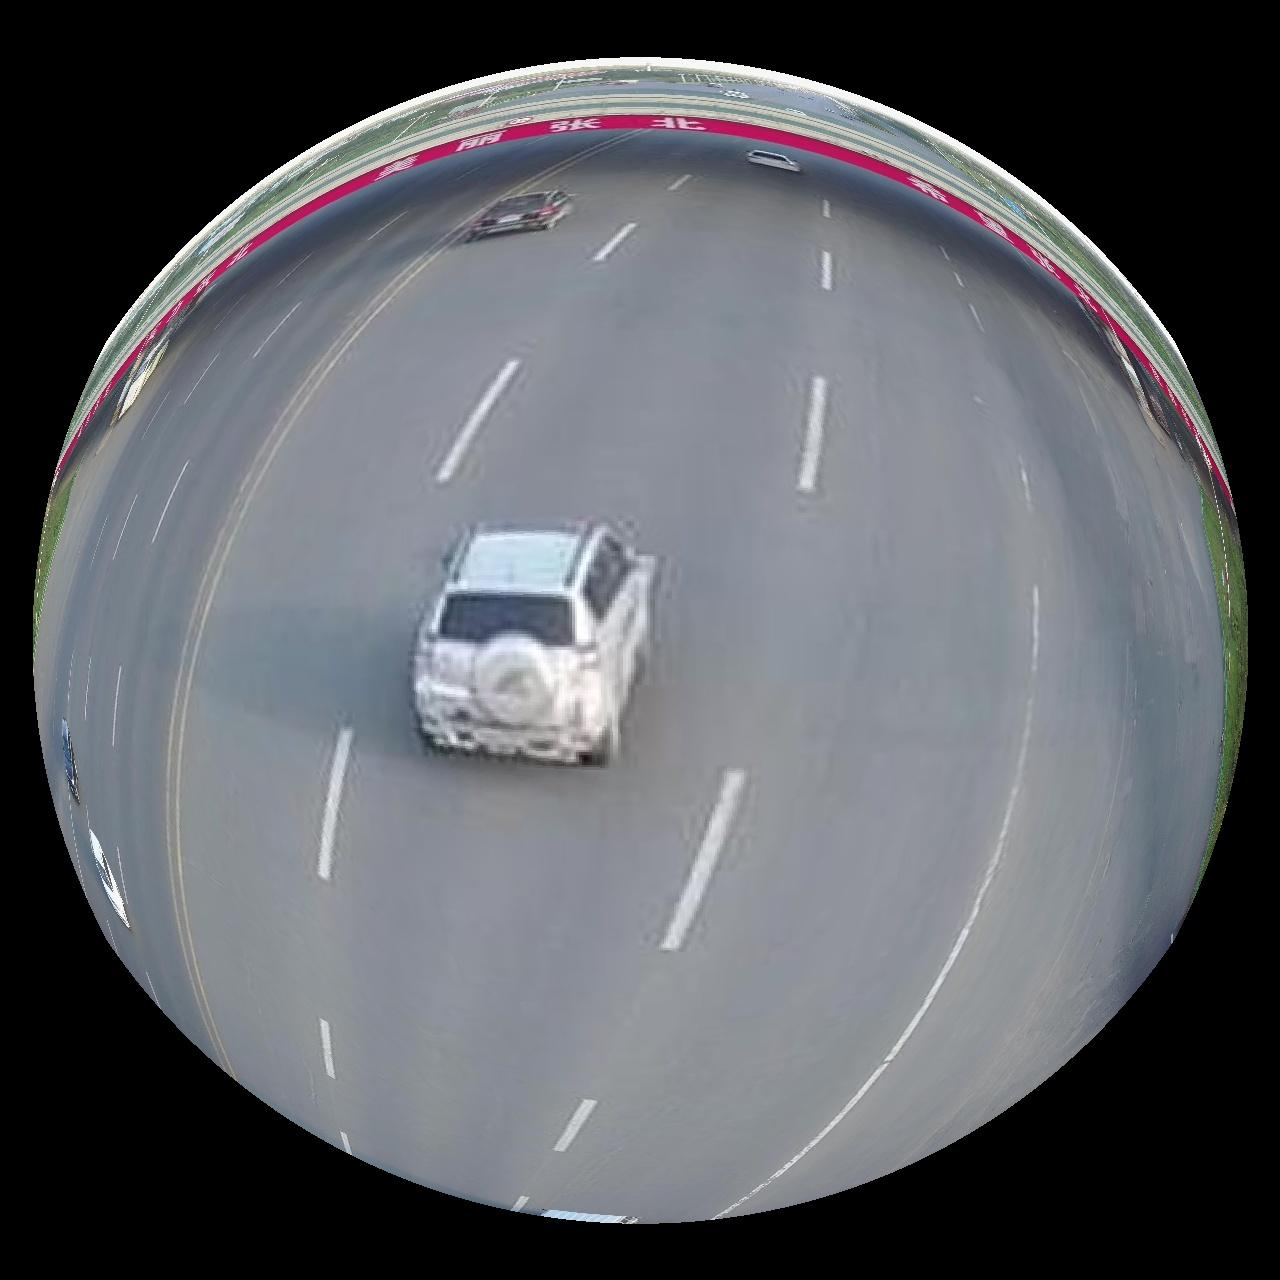cars: (411, 520, 658, 764), (461, 188, 571, 242), (88, 830, 128, 930), (58, 719, 79, 806), (746, 147, 801, 172)
